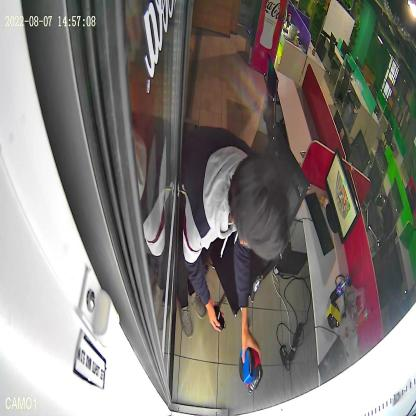blue: (239, 348, 256, 384)
red: (247, 347, 263, 395)
